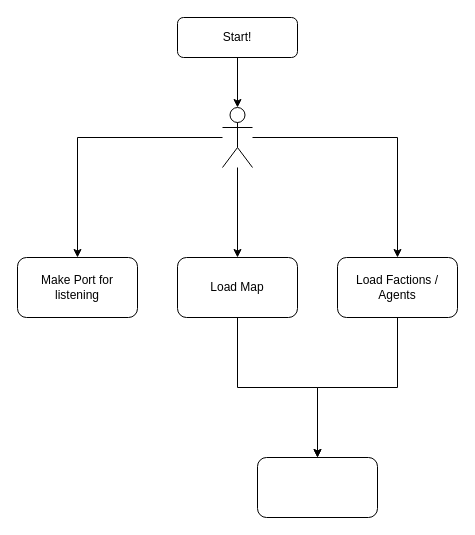
The diagram is 475 pixels wide and 535 high, and some of its shapes have lost their labels. The box of each missing label's shape, as (x1, y1, x2, y2) in pixels:
Director: (222, 106, 252, 168)
Populate Map: (256, 456, 378, 518)
